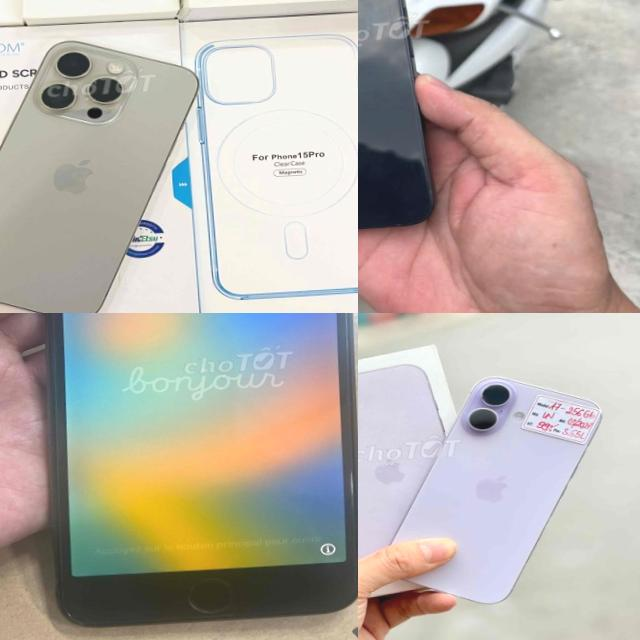gen_12_13: (358, 0, 452, 237)
gen_15: (0, 28, 218, 313)
gen_17: (383, 366, 623, 632)
